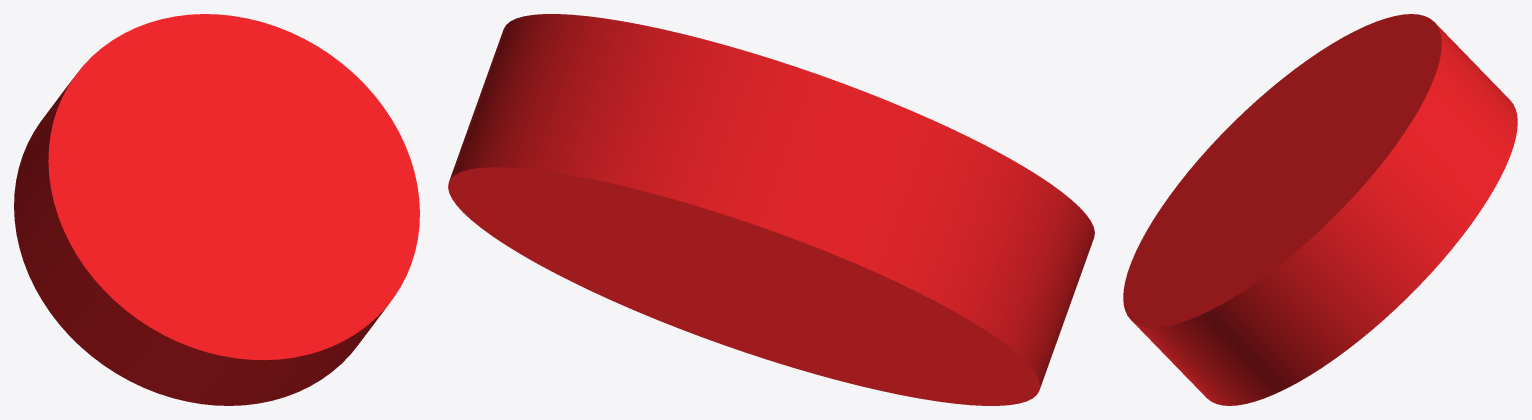
File: red.fbx
3 renders of one model, left to right at view 1: azimuth 30°, elevation 25°; view 2: azimuth 150°, elevation 25°; view 3: azimuth 270°, elevation 25°, orthographic. The views are drawn at different scales.
Parts seen in each view (by area): view 1: root; view 2: root; view 3: root.
Boxes of the visible parts, x1=… form: root: x1=14, y1=14, x2=419, y2=405; root: x1=448, y1=14, x2=1094, y2=405; root: x1=1123, y1=14, x2=1517, y2=405.
Bounding box in the file's own units: 0.1371 × 0.1153 × 0.1241.
1 material, 1 textured.
